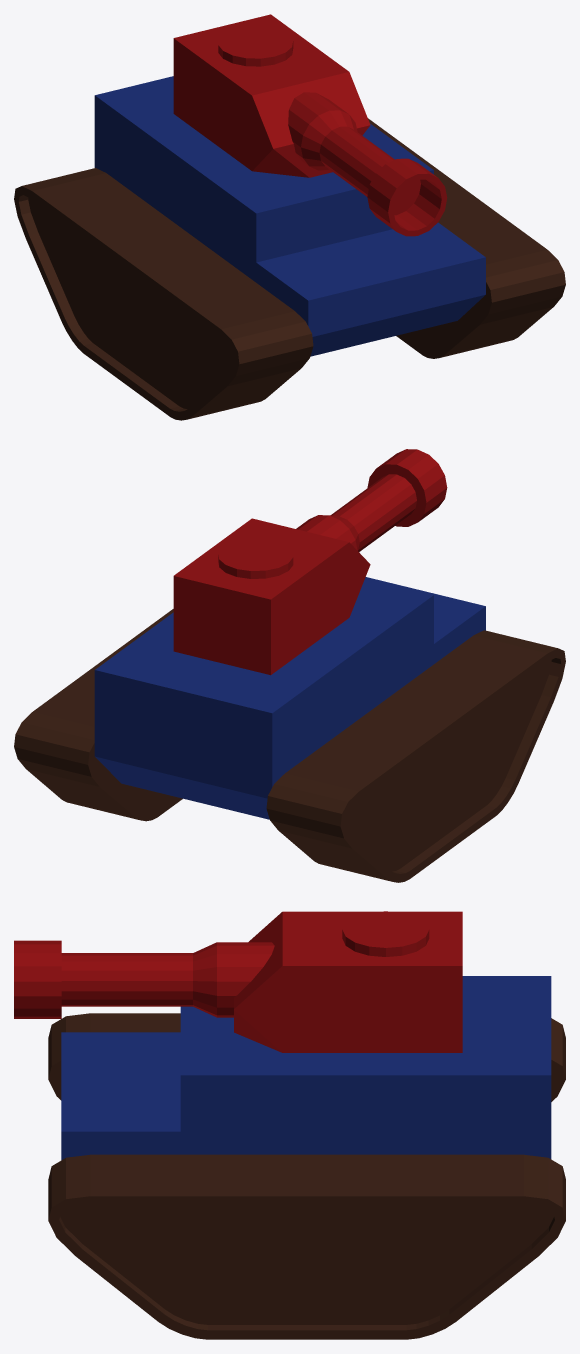
Rendered from Tank.fbx.
3 renders of one model, top to bottom at view 1: azimuth 30°, elevation 25°; view 2: azimuth 150°, elevation 25°; view 3: azimuth 270°, elevation 25°, orthographic. The views are drawn at different scales.
Visible parts, largest first — view 1: Tracks, Body, Top, Barrel, Door; view 2: Tracks, Body, Top, Barrel, Door; view 3: Tracks, Body, Top, Barrel, Door.
Boxes of the visible parts, x1,y1,x2,y2 form: Tracks: (14, 118, 565, 420); Body: (94, 76, 485, 356); Top: (173, 14, 370, 177); Barrel: (288, 92, 447, 236); Door: (218, 27, 293, 66); Tracks: (14, 609, 565, 882); Body: (94, 577, 485, 819); Top: (173, 518, 370, 675); Barrel: (296, 449, 447, 551); Door: (218, 539, 293, 578); Tracks: (48, 1013, 565, 1339); Body: (61, 976, 551, 1160); Top: (234, 911, 462, 1052); Barrel: (14, 940, 274, 1018); Door: (342, 911, 429, 956).
Bounding box in the file's own units: 257 × 208 × 327.
